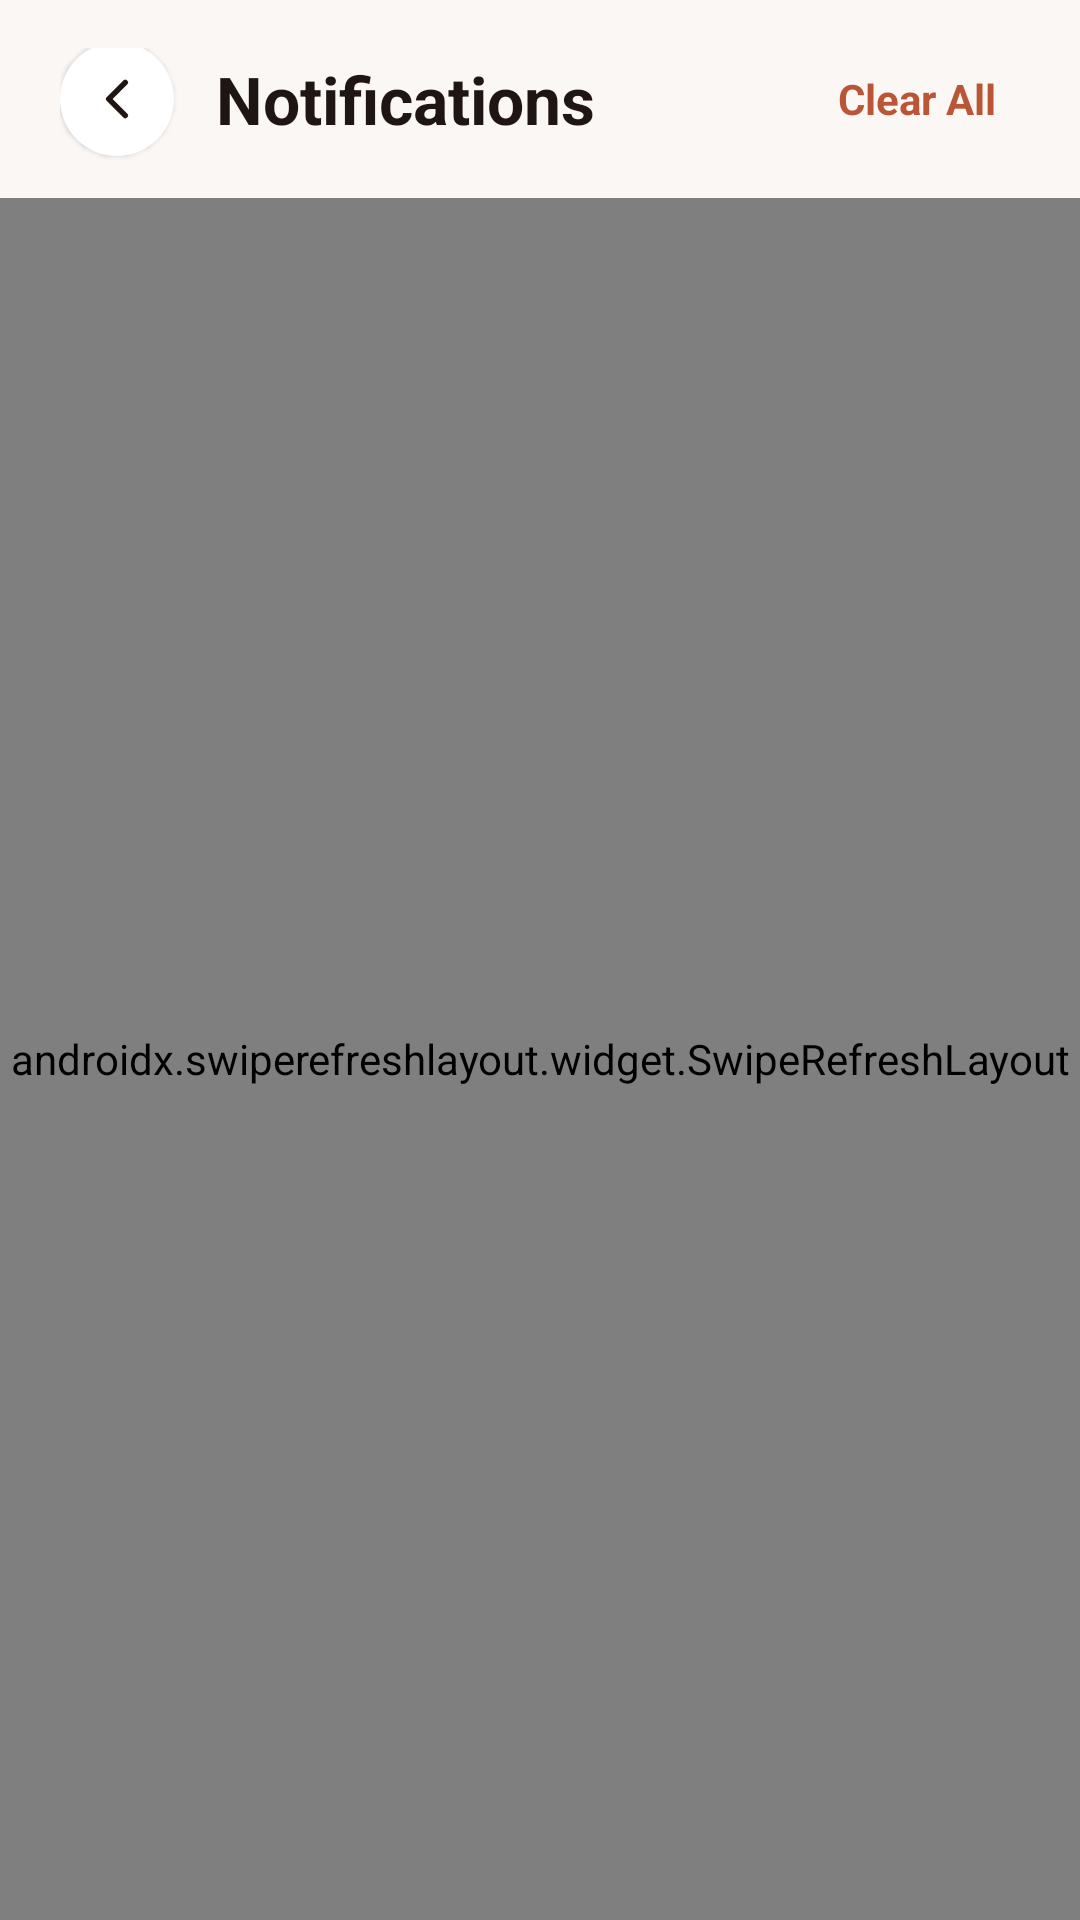

Locate icon controls on the screen. Image size 1080px x 1920px, boxes as box=[x1, y1, x2, y2].
Back: box=[60, 48, 174, 156]
